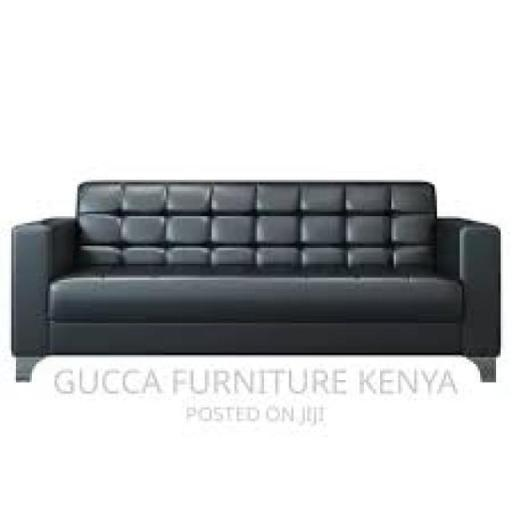sofa: (2, 148, 512, 429)
